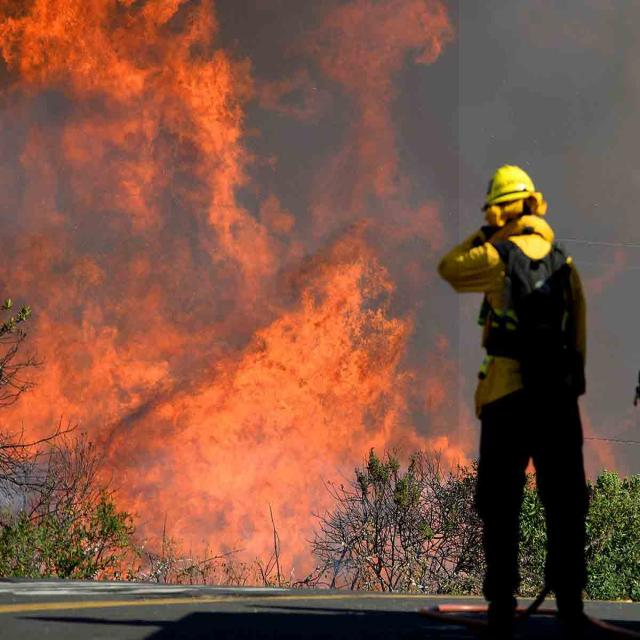Fire: (0, 0, 459, 533)
